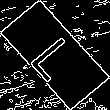L_NE: (24, 27, 86, 83)
